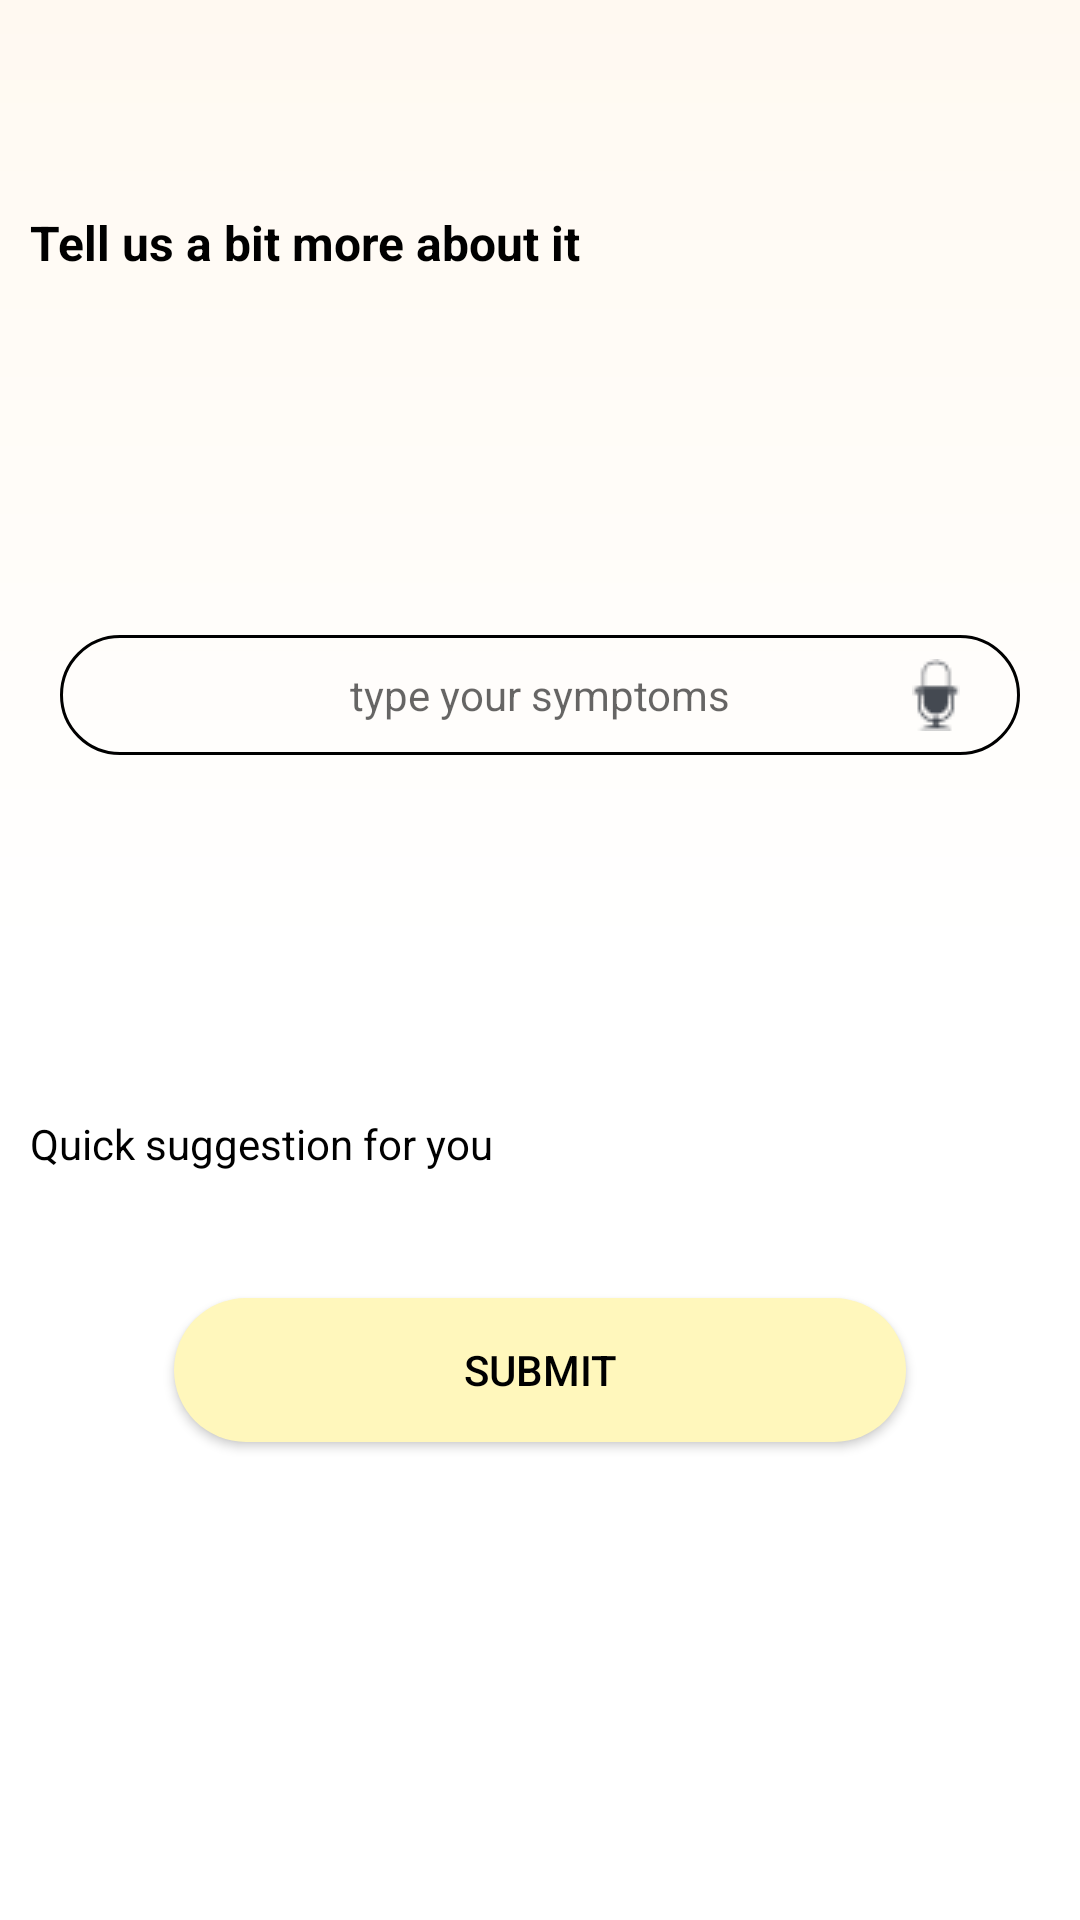

Icon bounding boxes for this 1080px×1920px phone screenshot, format bbox=[x1, y1, x2, y2]:
mic: bbox=[914, 659, 958, 731]
